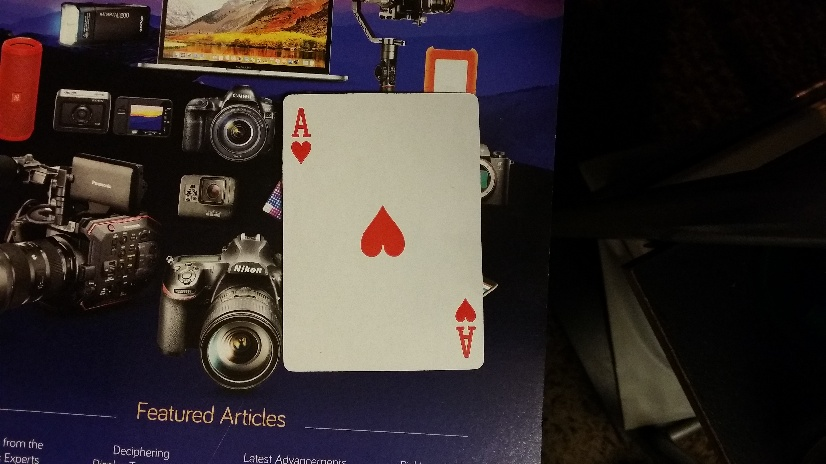Ha: (448, 298, 481, 361), (289, 103, 317, 167)
